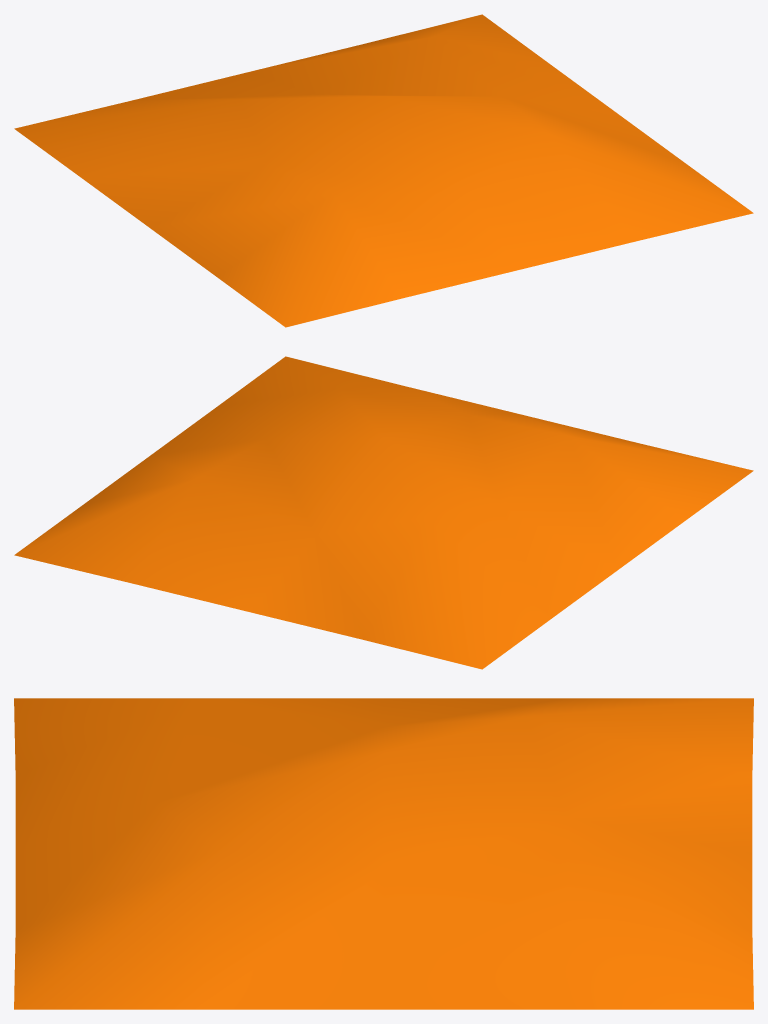
The model's file is coal.fbx.
The picture shows the model from 3 angles, top to bottom: view 1: azimuth 30°, elevation 25°; view 2: azimuth 150°, elevation 25°; view 3: azimuth 270°, elevation 25°; orthographic projection. The views are drawn at different scales.
Parts seen in each view (by area): view 1: firepit_coal; view 2: firepit_coal; view 3: firepit_coal.
Boxes of the visible parts, <box> form: firepit_coal: <box>14,14,753,327</box>; firepit_coal: <box>14,356,753,669</box>; firepit_coal: <box>14,698,753,1009</box>.
Bounding box in the file's own units: 54.57 × 8.31 × 54.81.
